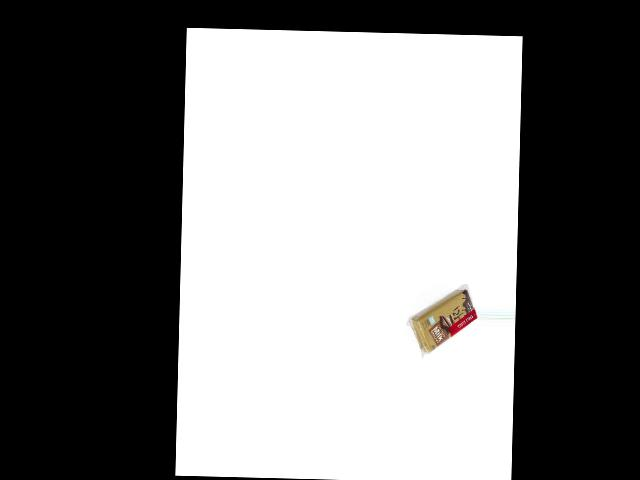chocolate: (408, 286, 476, 362)
